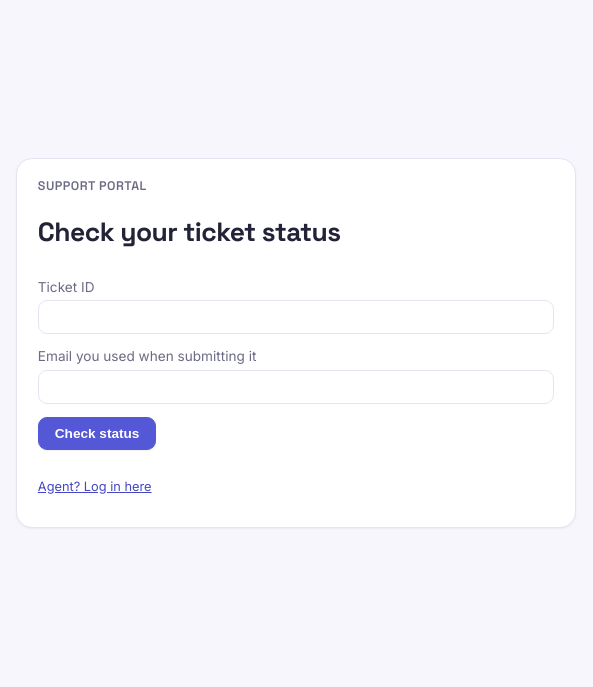
Scenario: PortalPage › lets the requester rate a resolved, unrated ticket
This screenshot has width=593, height=687.
Type "7" into the field labelled "Ticket ID". click: (296,318)
box: 38,300 -> 554,334
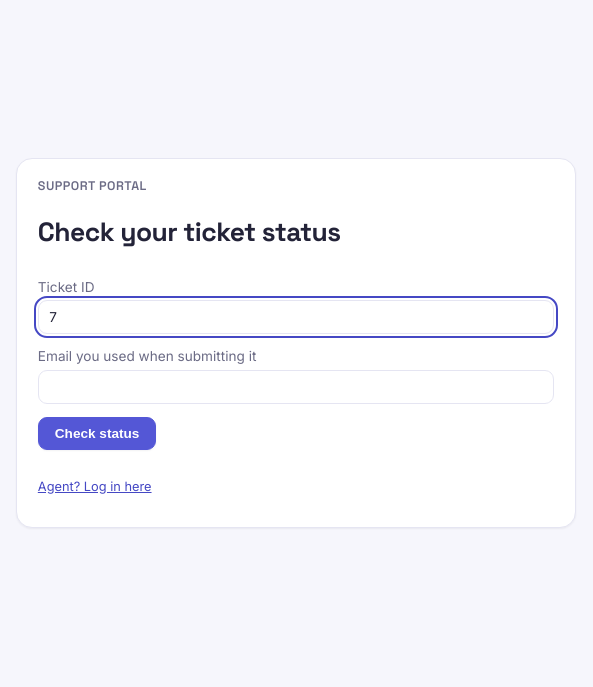
Type "jane@example.com" into the field labelled "Email you used when submitting it". click: (296,387)
box: 38,370 -> 554,404
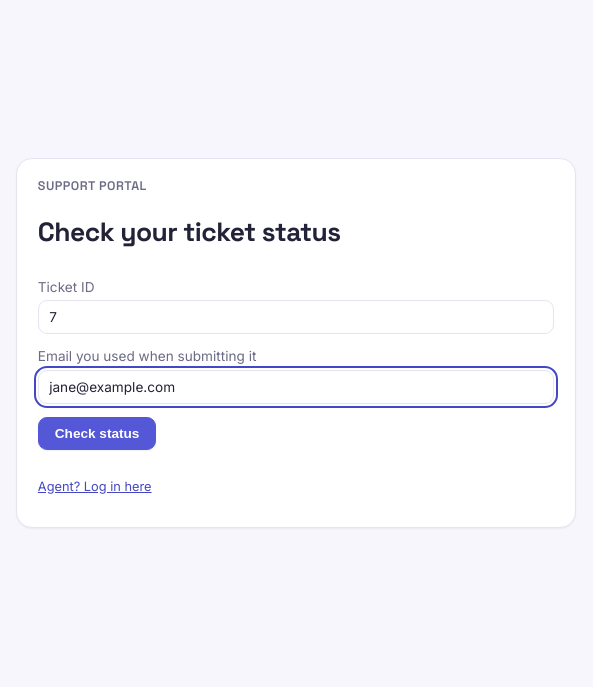
Click the button "Check status". click: (97,434)
box: 38,417 -> 156,450
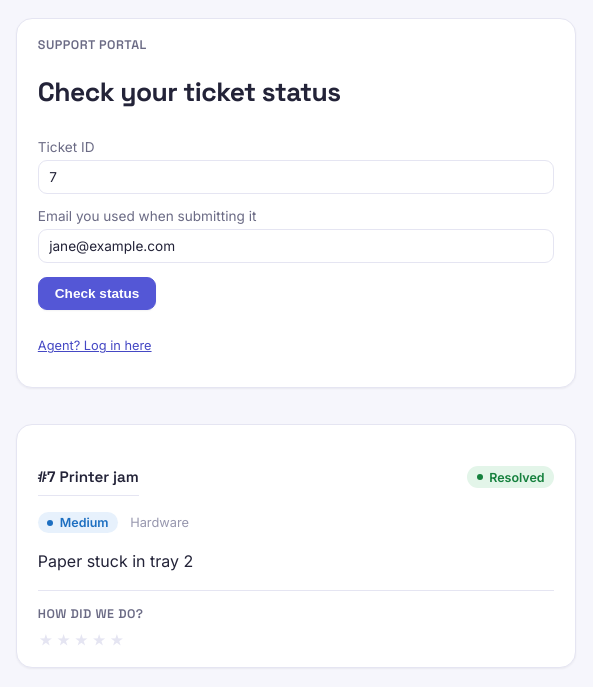
expect the text "How did we do?" is shown: met, box 38,606 -> 144,622
Click the button named "4 stars". click: (99,640)
box: 91,630 -> 106,650
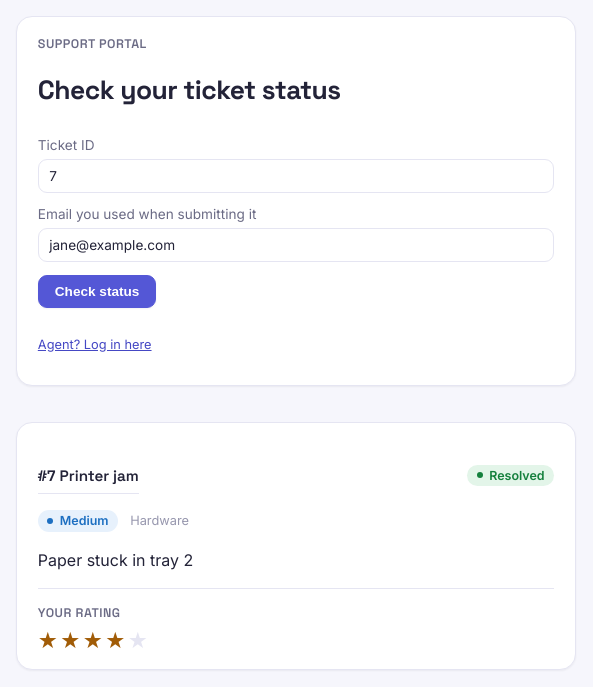
expect the text "Your rating" is shown: met, box 38,605 -> 121,621
